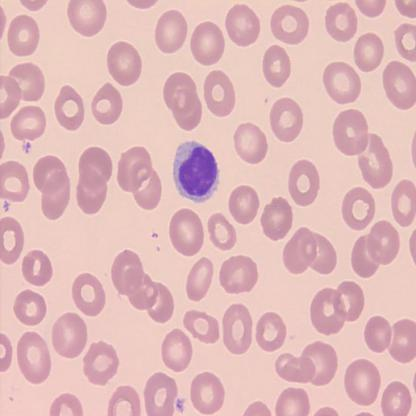Lymphocyte: (172, 140, 221, 204)
